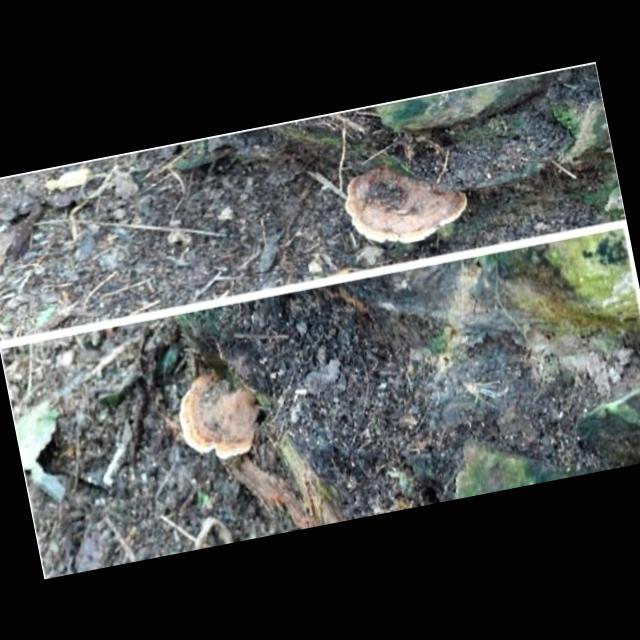ganoderma: (338, 143, 474, 255), (170, 362, 276, 470)
